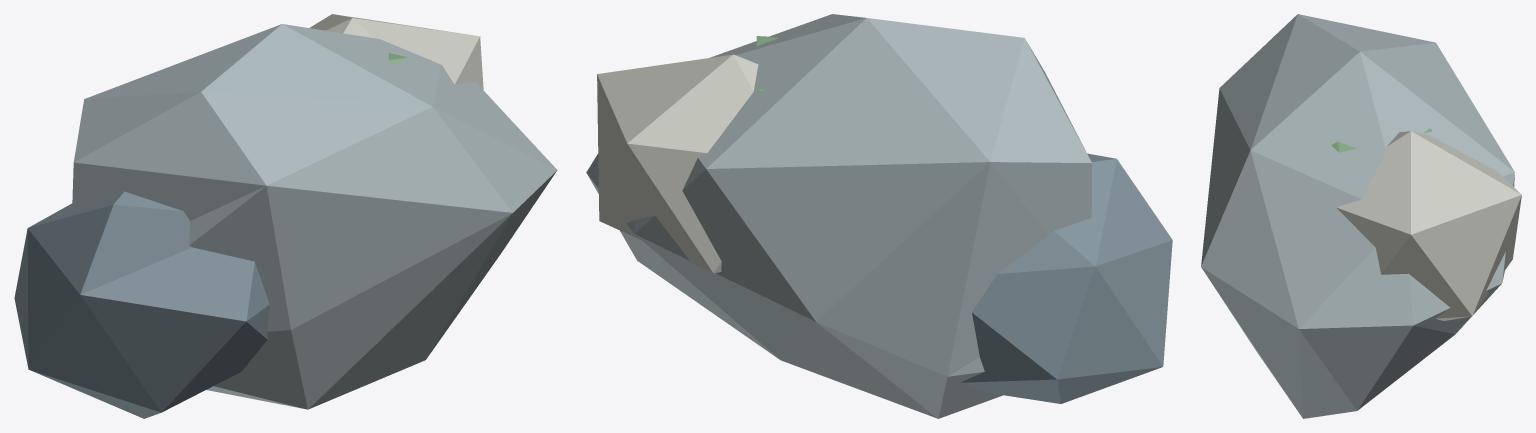
Rendered from rock_cluster_lod1.glb.
3 views of the same model, side by side, from view 1: azimuth 30°, elevation 25°; view 2: azimuth 150°, elevation 25°; view 3: azimuth 270°, elevation 25° (orthographic). The views are drawn at different scales.
Parts seen in each view (by area): view 1: Main weathered stone.001; view 2: Main weathered stone.001; view 3: Main weathered stone.001.
Boxes of the visible parts, x1=… form: Main weathered stone.001: x1=14, y1=14, x2=557, y2=418; Main weathered stone.001: x1=586, y1=14, x2=1172, y2=418; Main weathered stone.001: x1=1201, y1=14, x2=1521, y2=418.
Bounding box in the file's own units: 1.82 × 1.2 × 1.07.
